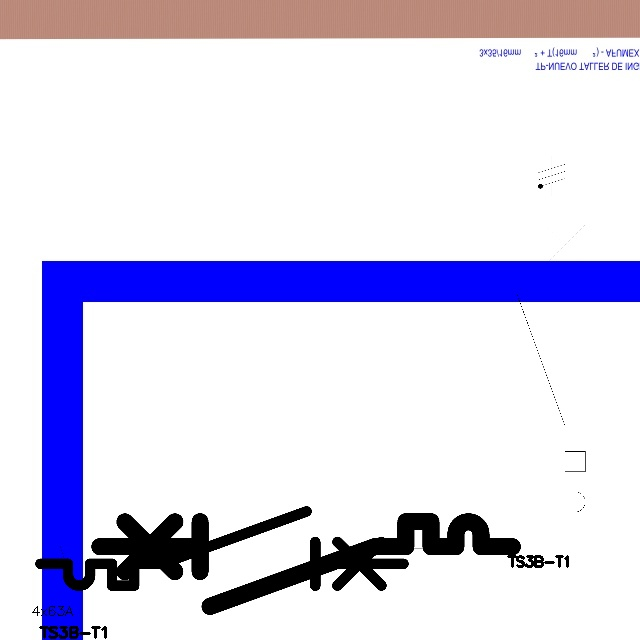interruptor_termomagnetico: (89, 511, 523, 617), (31, 502, 412, 595), (508, 195, 594, 545)
